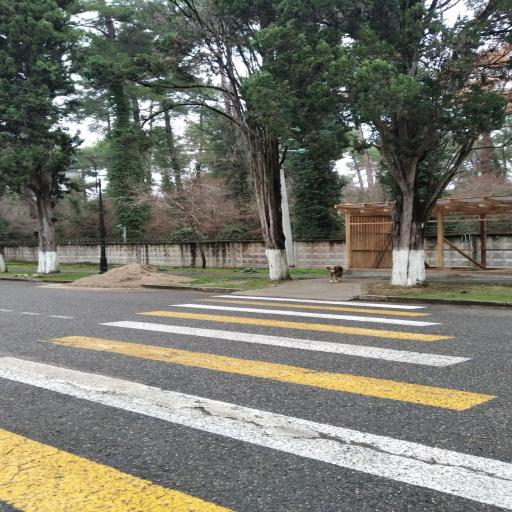closet: (0, 290, 512, 512)
construction_fence: (354, 295, 512, 309), (142, 285, 242, 294)
ramp: (0, 282, 511, 511)
